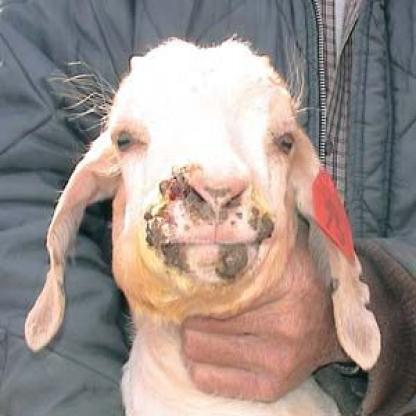ppr: (137, 167, 279, 292)
